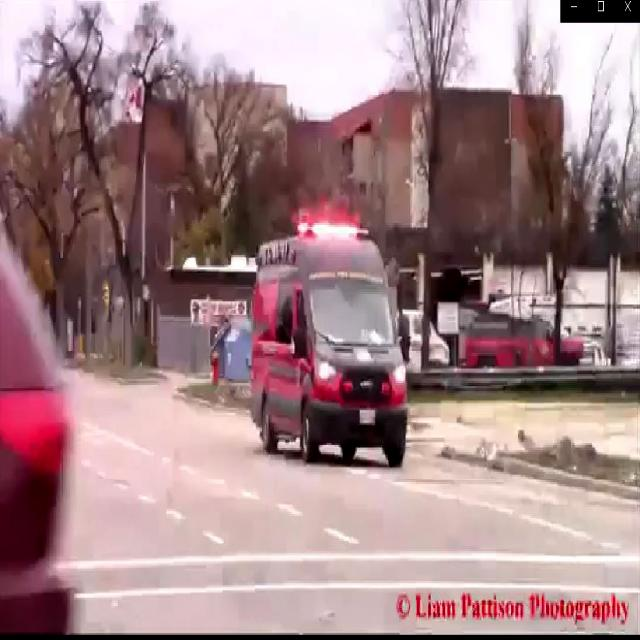emergency: (243, 204, 412, 478)
